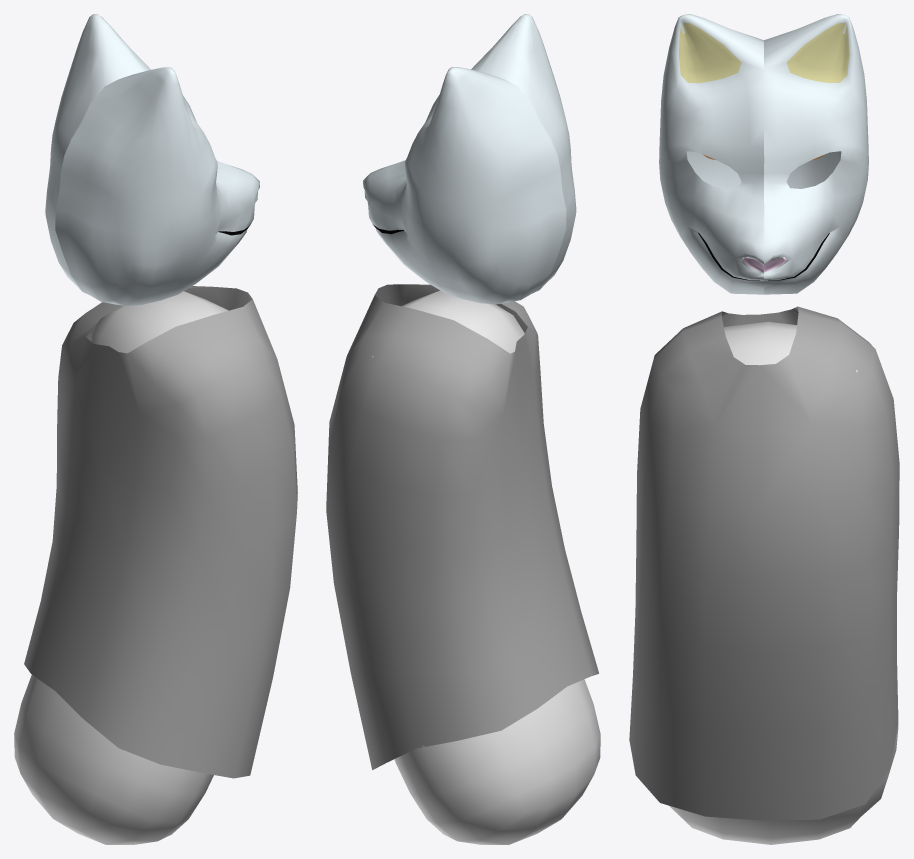
Rendered from NPC 7.fbx.
3 views of the same model, side by side, from view 1: azimuth 30°, elevation 25°; view 2: azimuth 150°, elevation 25°; view 3: azimuth 270°, elevation 25° (orthographic). The views are drawn at different scales.
Visible parts, largest first — view 1: T-shirt.009, Mask.007, body.009; view 2: T-shirt.009, Mask.007, body.009; view 3: T-shirt.009, Mask.007, body.009.
Boxes of the visible parts, x1=… form: T-shirt.009: x1=24, y1=286, x2=297, y2=778; Mask.007: x1=45, y1=14, x2=259, y2=305; body.009: x1=14, y1=291, x2=228, y2=844; T-shirt.009: x1=326, y1=284, x2=598, y2=769; Mask.007: x1=363, y1=14, x2=576, y2=304; body.009: x1=372, y1=290, x2=600, y2=844; T-shirt.009: x1=629, y1=306, x2=899, y2=820; Mask.007: x1=659, y1=14, x2=868, y2=294; body.009: x1=669, y1=321, x2=898, y2=844.
Bounding box in the file's own units: 2.26 × 7.21 × 2.12.
